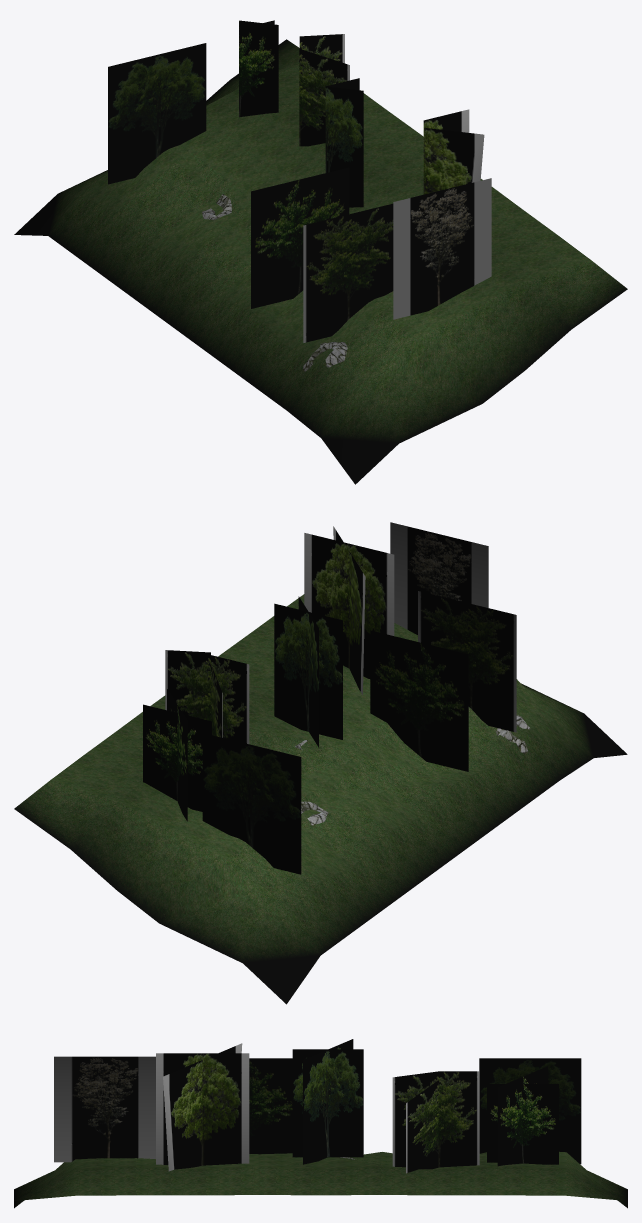
Rendered from KIN_AMB_GAKE0_R.glb.
3 views of the same model, one above another, from view 1: azimuth 30°, elevation 25°; view 2: azimuth 150°, elevation 25°; view 3: azimuth 270°, elevation 25° (orthographic). The views are drawn at different scales.
Visible parts, largest first — view 1: AMB3, bone3_0, bone3_5, bone3_7, bone3_6, bone3_2, bone3_3; view 2: AMB3, bone3_5, bone3_0, bone3_6, bone3_3, bone3_7, bone3_2; view 3: AMB3, bone3_5, bone3_0, bone3_7, bone3_2, bone3_3.
Part boxes in pixels (box(x1,y1,x2,y2)): AMB3: box(14, 39, 627, 484); bone3_0: box(108, 20, 278, 184); bone3_5: box(251, 109, 484, 308); bone3_7: box(393, 178, 491, 319); bone3_6: box(302, 203, 393, 371); bone3_2: box(202, 34, 349, 220); bone3_3: box(325, 78, 363, 207); AMB3: box(14, 594, 627, 1004); bone3_5: box(304, 526, 468, 771); bone3_0: box(143, 689, 301, 874); bone3_6: box(418, 591, 529, 753); bone3_3: box(274, 596, 342, 749); bone3_7: box(390, 522, 488, 634); bone3_2: box(165, 650, 328, 825); AMB3: box(14, 1151, 627, 1208); bone3_5: box(156, 1043, 292, 1171); bone3_0: box(479, 1058, 581, 1166); bone3_7: box(54, 1056, 155, 1162); bone3_2: box(392, 1071, 479, 1173); bone3_3: box(292, 1039, 363, 1164).
Bounding box in the file's own units: 57.63 × 49.57 × 125.
12 materials, 12 textured.
